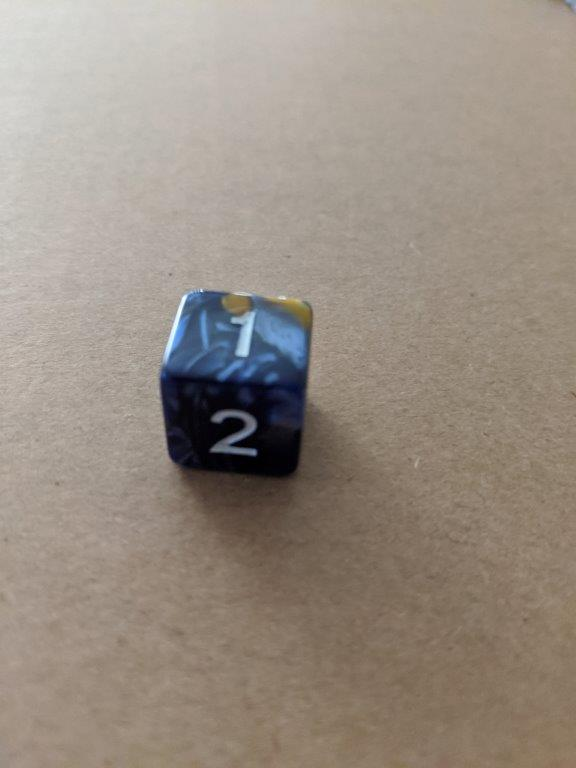d6-1: (158, 288, 317, 483)
